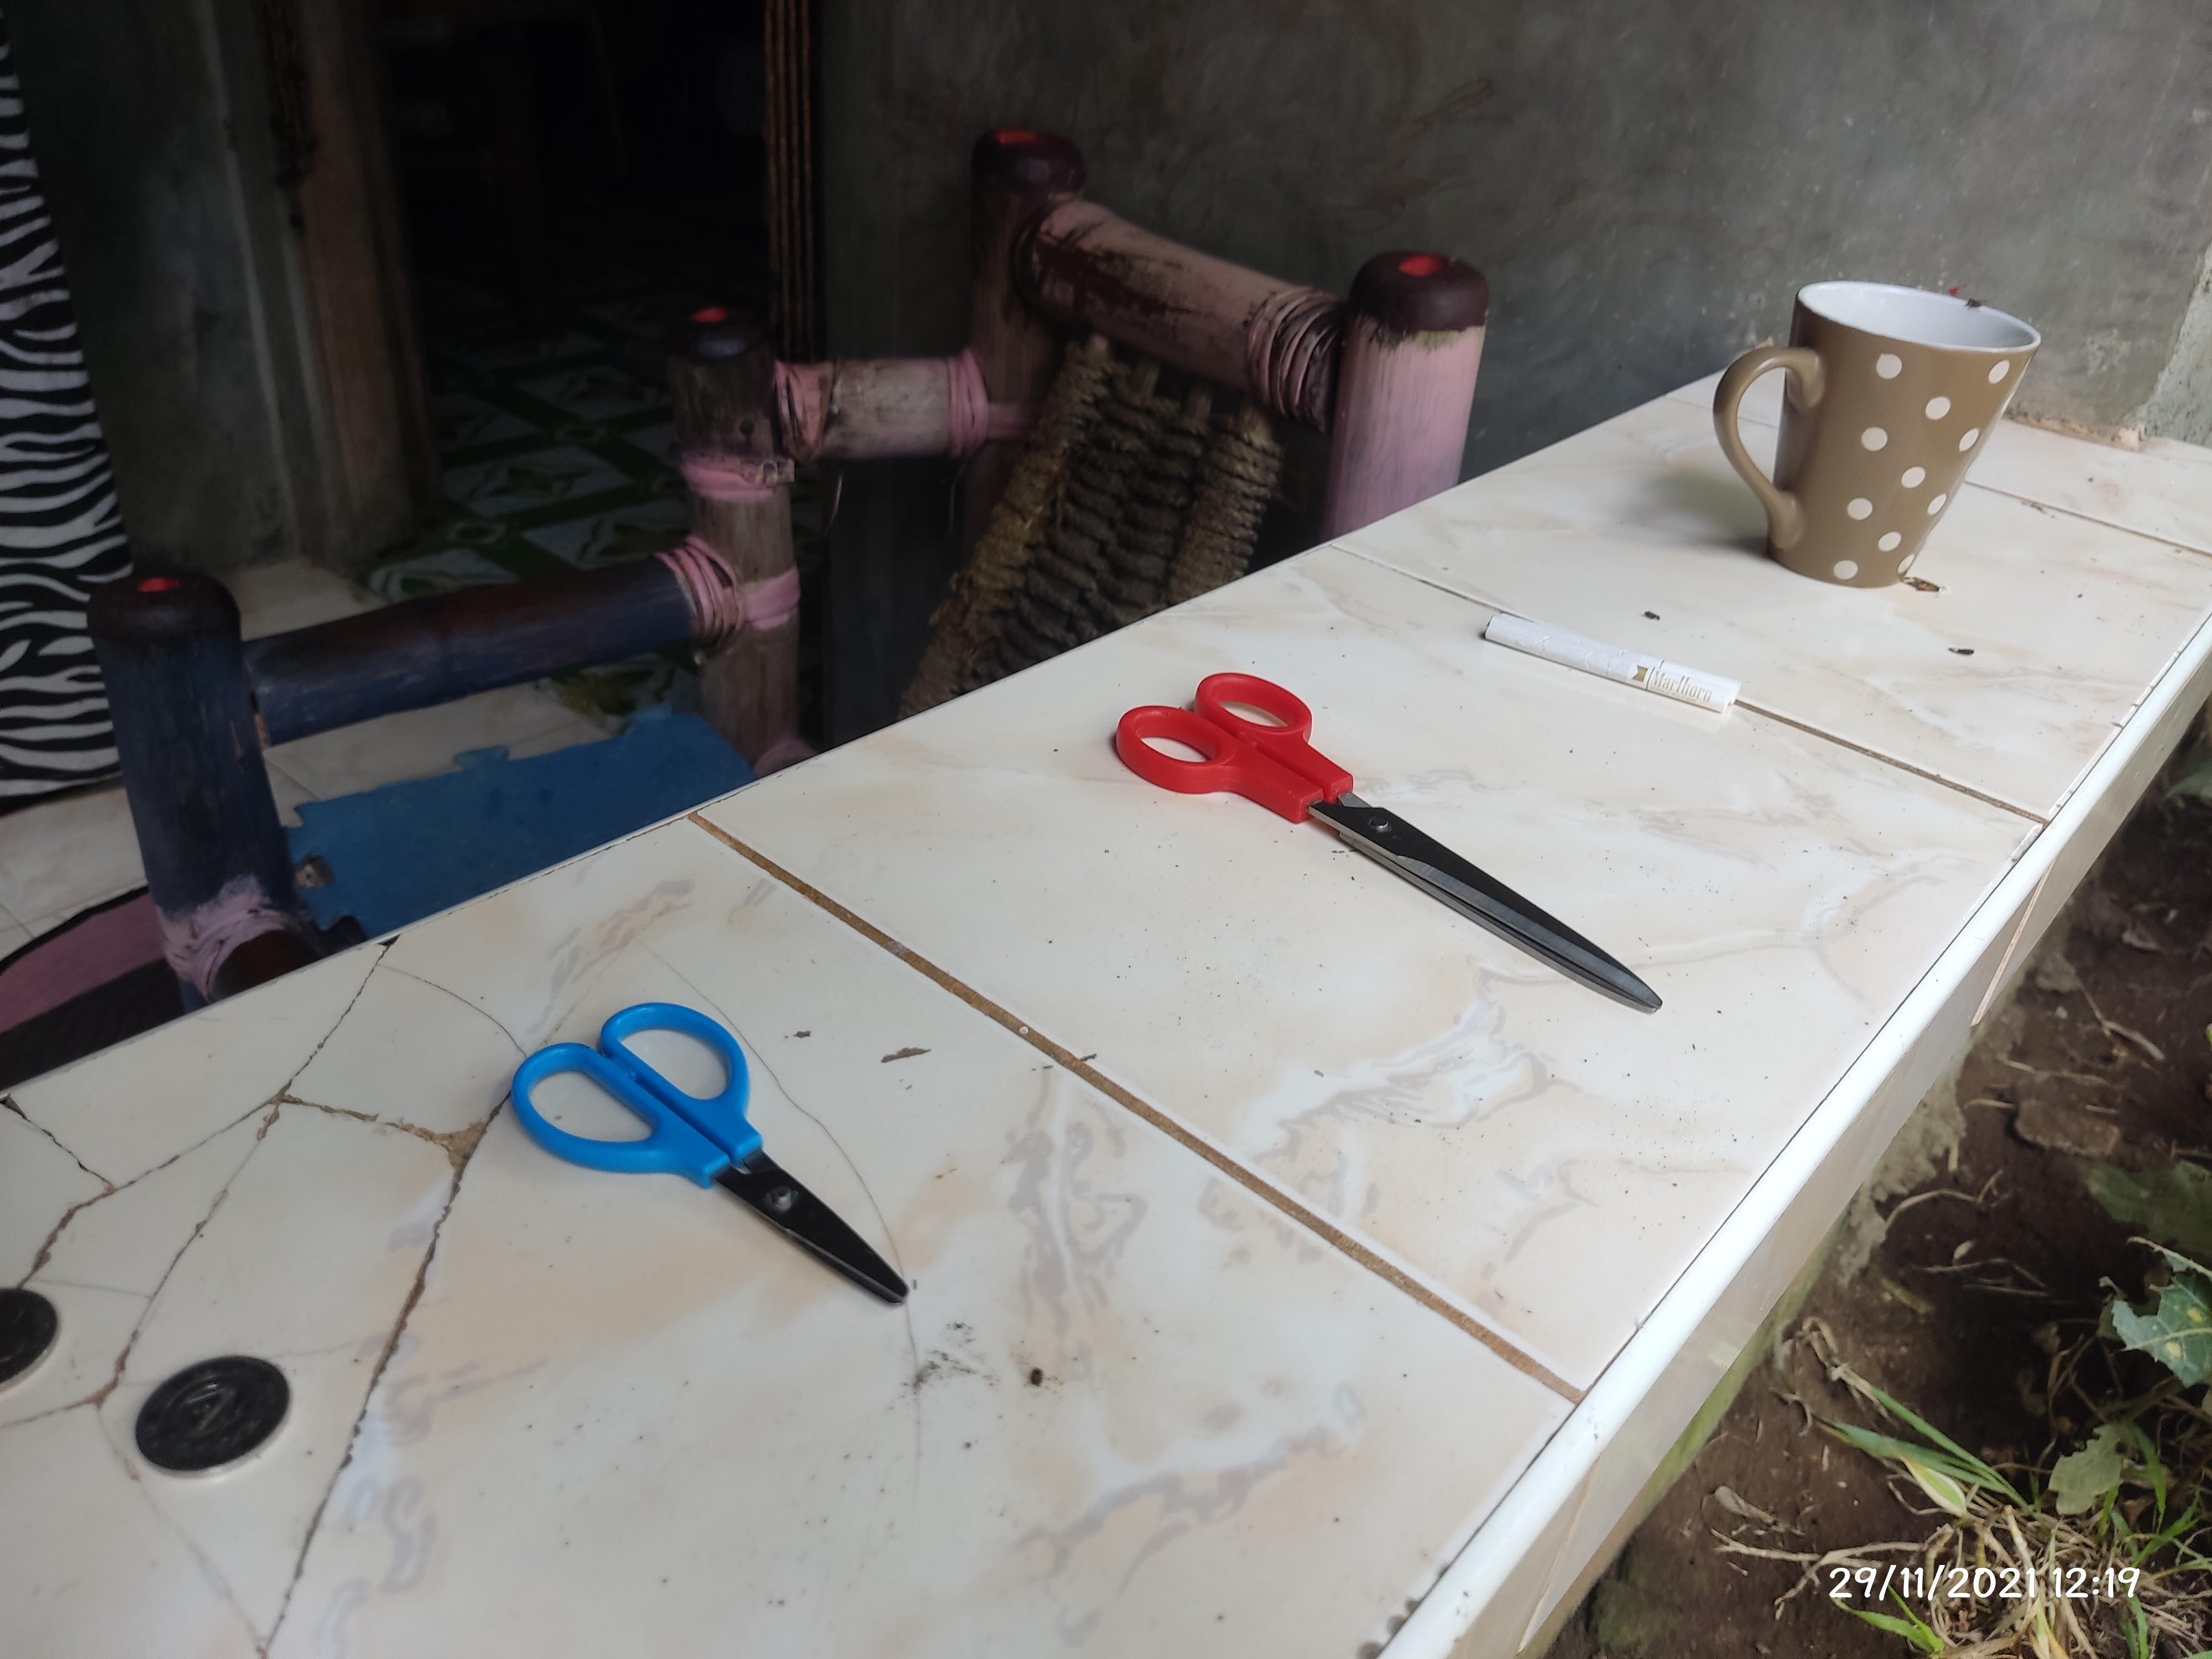scissor: (1120, 680, 1679, 1014), (512, 1000, 921, 1312)
